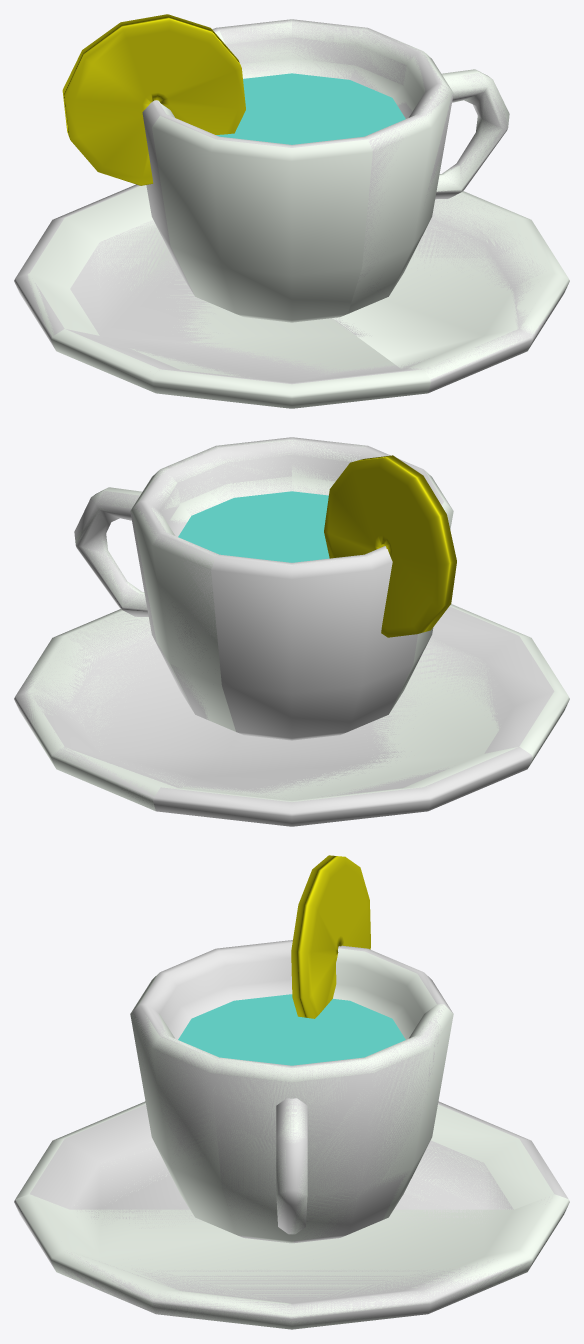
The model's file is tea1.fbx.
The picture shows the model from 3 angles, top to bottom: view 1: azimuth 30°, elevation 25°; view 2: azimuth 150°, elevation 25°; view 3: azimuth 270°, elevation 25°; orthographic projection.
Visible parts, largest first — view 1: coffe.005, coffe.004, tea; view 2: tea, coffe.004, coffe.005; view 3: tea, coffe.004, coffe.005.
Boxes of the visible parts, x1,y1,x2,y2 form: coffe.005: [27, 22, 430, 408]; coffe.004: [219, 19, 569, 390]; tea: [14, 14, 565, 393]; tea: [14, 437, 554, 826]; coffe.004: [21, 438, 366, 811]; coffe.005: [162, 470, 569, 801]; tea: [14, 855, 568, 1326]; coffe.004: [15, 1004, 569, 1329]; coffe.005: [15, 943, 553, 1209].
Size of the model in its own units: 99.32 by 60.89 by 99.32.
